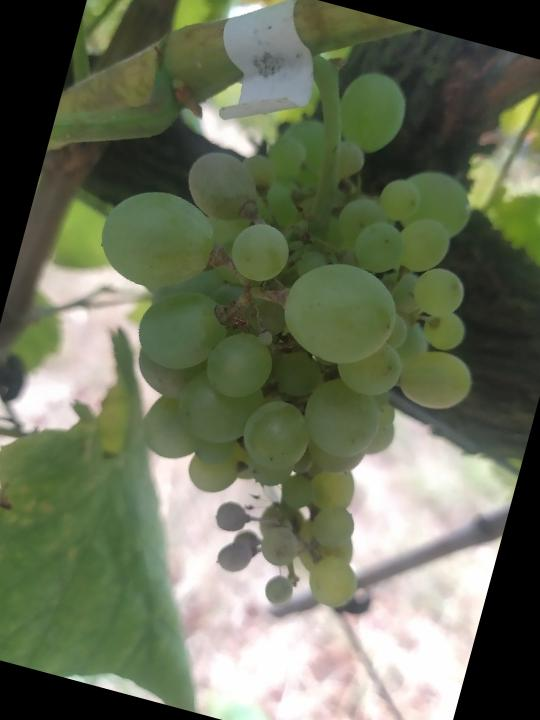grape: (17, 10, 540, 642)
